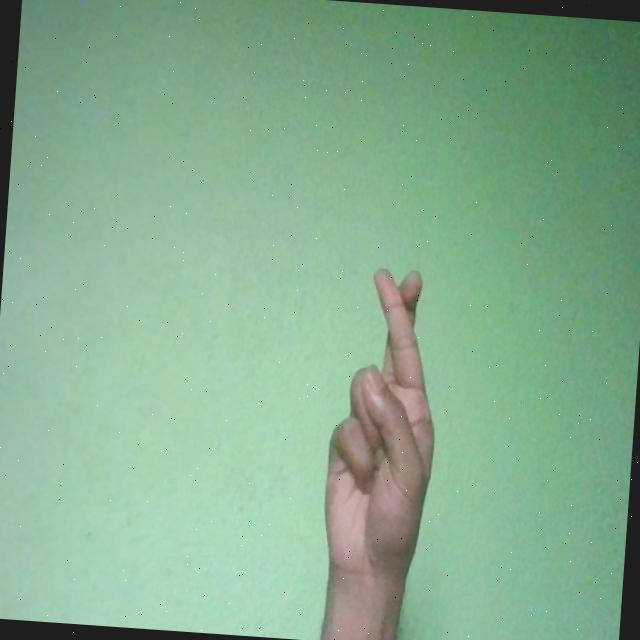Ok: (316, 262, 448, 597)
